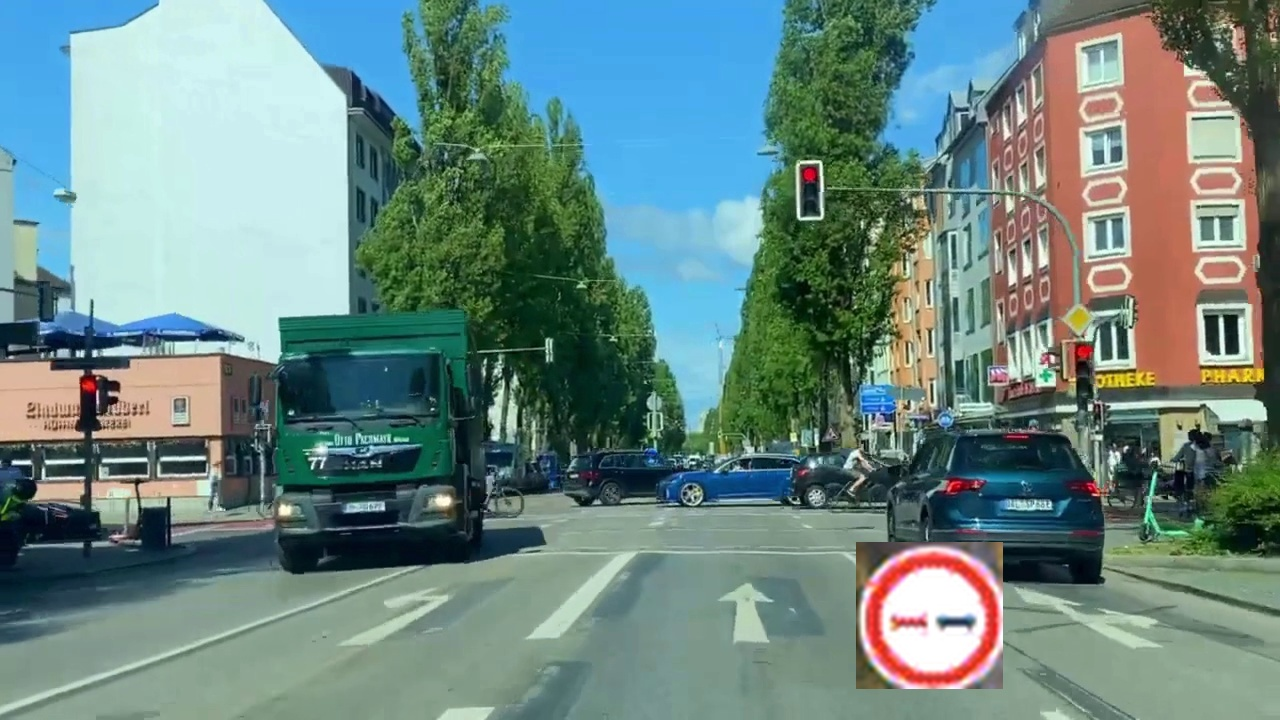No passing: (856, 542, 1003, 689)
